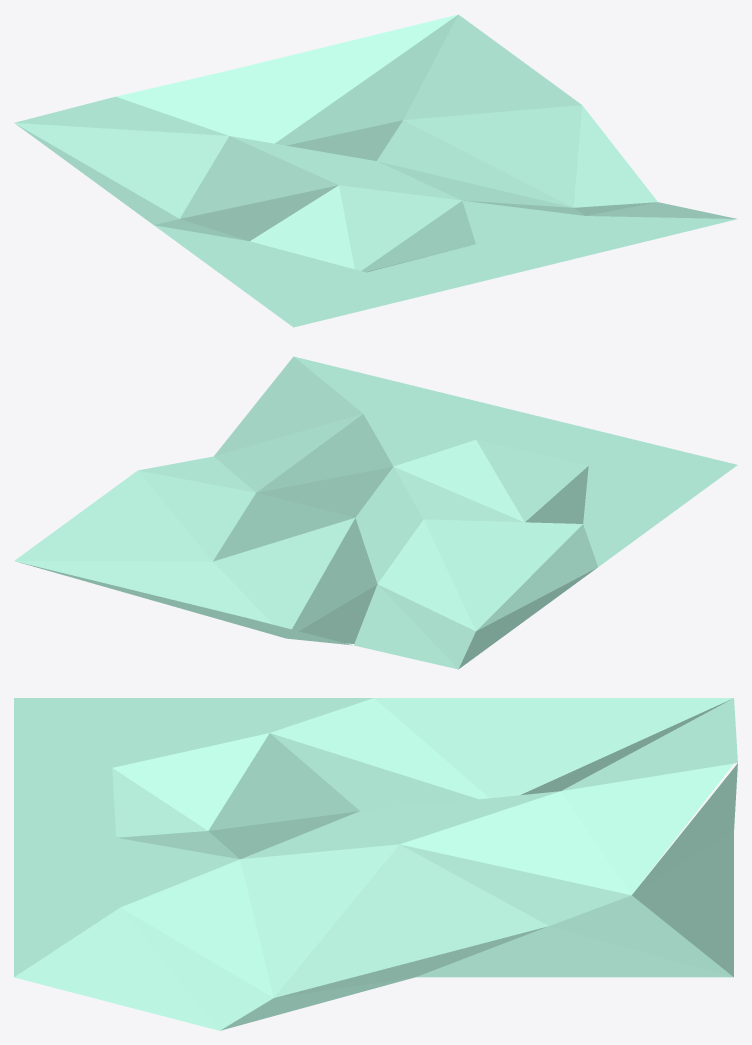
Rendered from ice.fbx.
3 renders of one model, top to bottom at view 1: azimuth 30°, elevation 25°; view 2: azimuth 150°, elevation 25°; view 3: azimuth 270°, elevation 25°, orthographic. The views are drawn at different scales.
Visible parts, largest first — view 1: 物件_37.002, 物件_31.002, 物件_27.002, 物件_25.002, 物件_26.002, 物件_30.002, 物件_10.001, 物件_1.003, 物件_36.002, 物件_23.002, 物件_24.002, 物件_17.002 (+15 smaller); view 2: 物件_25.002, 物件_12.002, 物件_6.003, 物件_26.002, 物件_20.002, 物件_27.002, 物件_23.002, 物件_17.002, 物件_24.002, 物件_30.002, 物件_15.002, 物件_21 (+20 smaller); view 3: 物件_11.002, 物件_1.003, 物件_3.002, 物件_28.002, 物件_20.002, 物件_32.002, 物件_8, 物件_25.002, 物件_14.002, 物件_37.002, 物件_23.002, 物件_17.002 (+20 smaller).
Boxes of the visible parts, x1=… form: 物件_37.002: x1=226, y1=14, x2=457, y2=143; 物件_31.002: x1=14, y1=123, x2=228, y2=218; 物件_27.002: x1=403, y1=105, x2=582, y2=207; 物件_25.002: x1=403, y1=14, x2=581, y2=119; 物件_26.002: x1=275, y1=15, x2=457, y2=145; 物件_30.002: x1=180, y1=136, x2=338, y2=218; 物件_10.001: x1=339, y1=185, x2=461, y2=270; 物件_1.003: x1=377, y1=120, x2=572, y2=207; 物件_36.002: x1=116, y1=71, x2=260, y2=141; 物件_23.002: x1=516, y1=216, x2=737, y2=272; 物件_24.002: x1=368, y1=216, x2=584, y2=273; 物件_17.002: x1=250, y1=241, x2=365, y2=327; 物件_25.002: x1=14, y1=470, x2=212, y2=561; 物件_12.002: x1=424, y1=519, x2=582, y2=630; 物件_6.003: x1=213, y1=518, x2=354, y2=629; 物件_26.002: x1=14, y1=561, x2=272, y2=624; 物件_20.002: x1=214, y1=356, x2=362, y2=456; 物件_27.002: x1=138, y1=470, x2=255, y2=561; 物件_23.002: x1=294, y1=356, x2=514, y2=413; 物件_17.002: x1=583, y1=465, x2=736, y2=523; 物件_24.002: x1=364, y1=410, x2=587, y2=465; 物件_30.002: x1=378, y1=519, x2=475, y2=631; 物件_15.002: x1=516, y1=411, x2=737, y2=465; 物件_21: x1=394, y1=440, x2=524, y2=522; 物件_11.002: x1=374, y1=698, x2=733, y2=798; 物件_1.003: x1=274, y1=844, x2=548, y2=997; 物件_3.002: x1=240, y1=844, x2=399, y2=997; 物件_28.002: x1=400, y1=791, x2=631, y2=894; 物件_20.002: x1=14, y1=908, x2=219, y2=1030; 物件_32.002: x1=561, y1=763, x2=733, y2=894; 物件_8: x1=120, y1=859, x2=273, y2=997; 物件_25.002: x1=416, y1=926, x2=732, y2=977; 物件_14.002: x1=270, y1=698, x2=489, y2=799; 物件_37.002: x1=632, y1=831, x2=733, y2=976; 物件_23.002: x1=14, y1=838, x2=119, y2=976; 物件_17.002: x1=14, y1=698, x2=268, y2=767.
Bounding box in the file's own units: 3385 × 363 × 3708.
